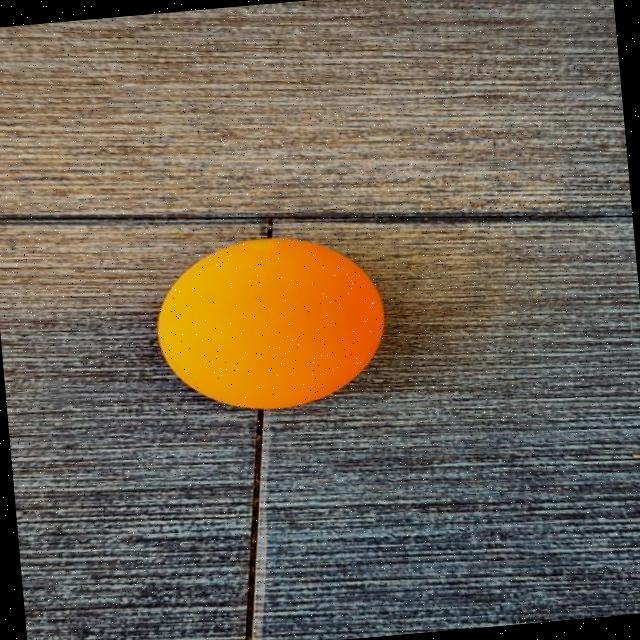ping-pong-ball: (134, 217, 417, 432)
